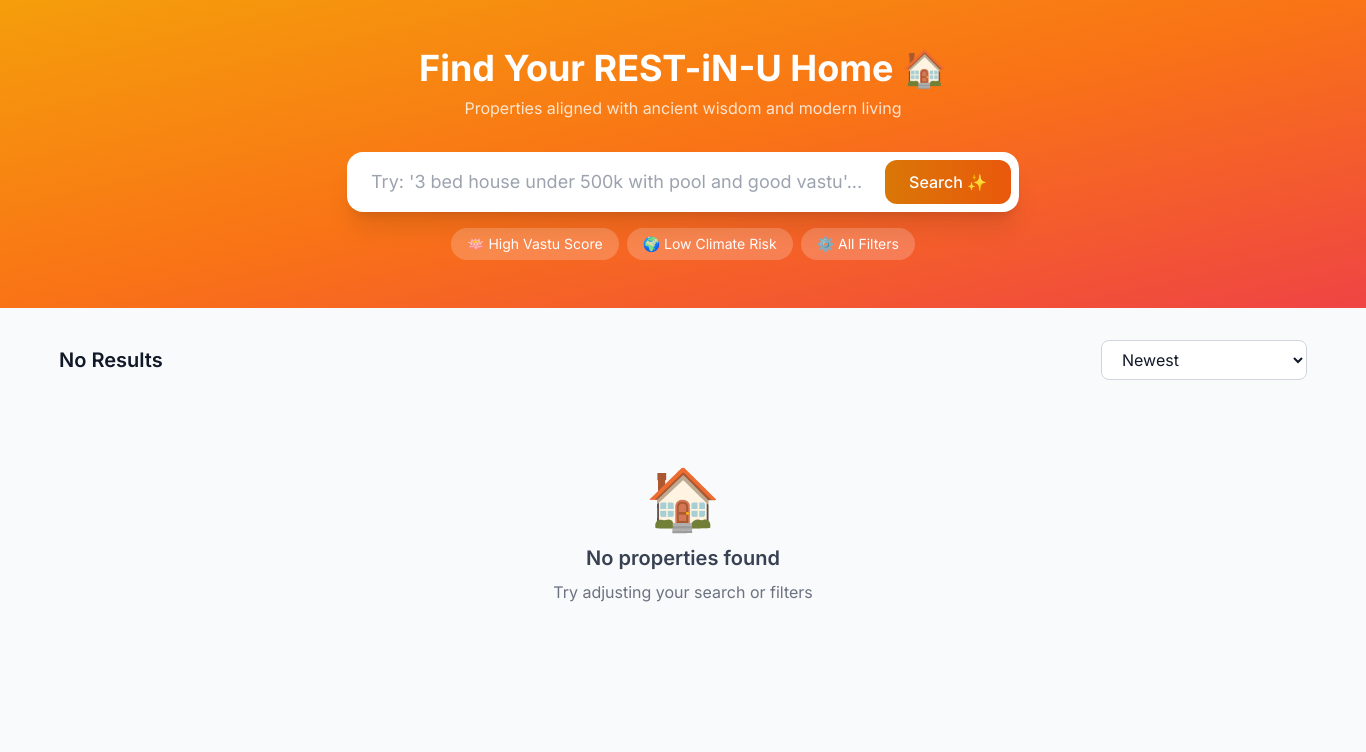
Test: SearchPage › Filters panel › should toggle filters panel visibility
Expected: the text "Property Type" is not shown
# Click All Filters button
Click the button "⚙️ All Filters". click: (858,244)
box: [801, 228, 915, 260]
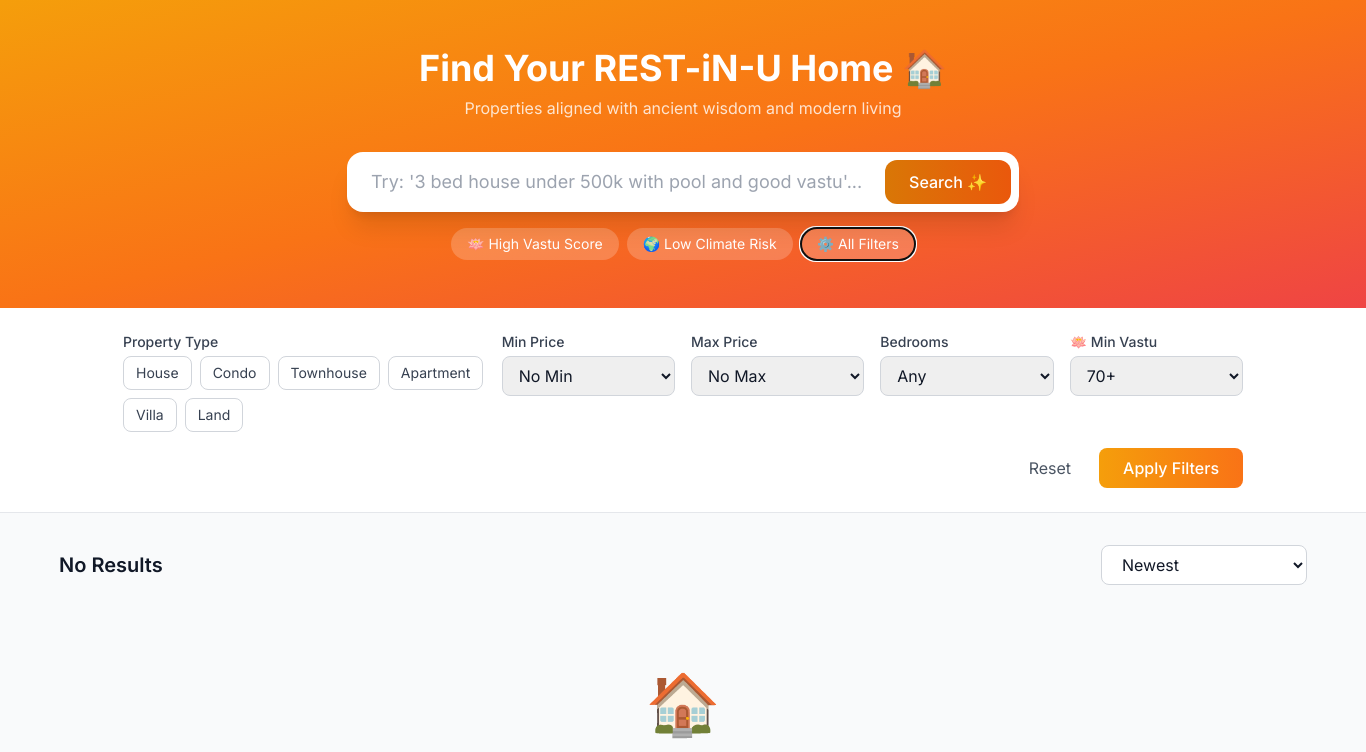
Expected: the text "Property Type" is shown, [123, 333, 218, 350]
Expected: the text "Min Price" is shown, [502, 333, 564, 350]
Expected: the text "Max Price" is shown, [691, 333, 758, 350]
